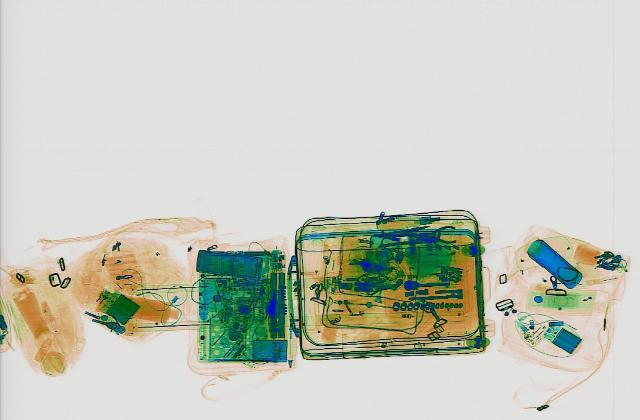Pliers: (406, 222, 458, 242)
